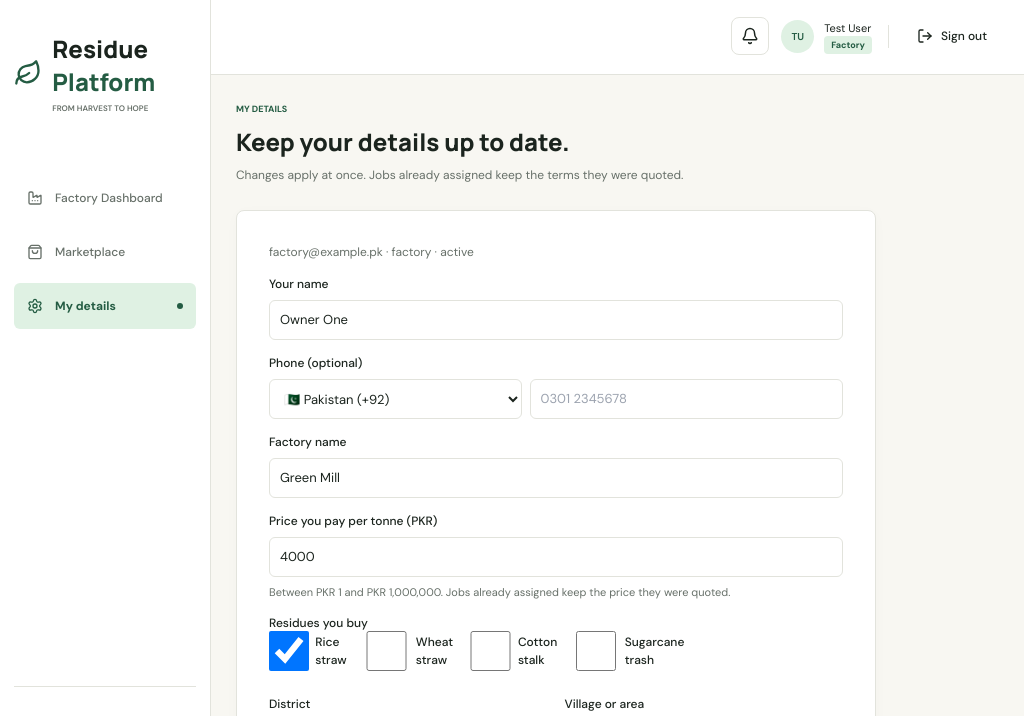
Test case: Settings: a factory edits its own details › a refusal from the API is shown on the field it names
This screenshot has width=1024, height=716.
Check: the field labelled "Factory name" is shown, box [269, 458, 843, 498]
Replace the text in the field labelled "Your name" with "Owner Two" at {"x": 556, "y": 320}, box [269, 300, 843, 340]
(page scrolled)
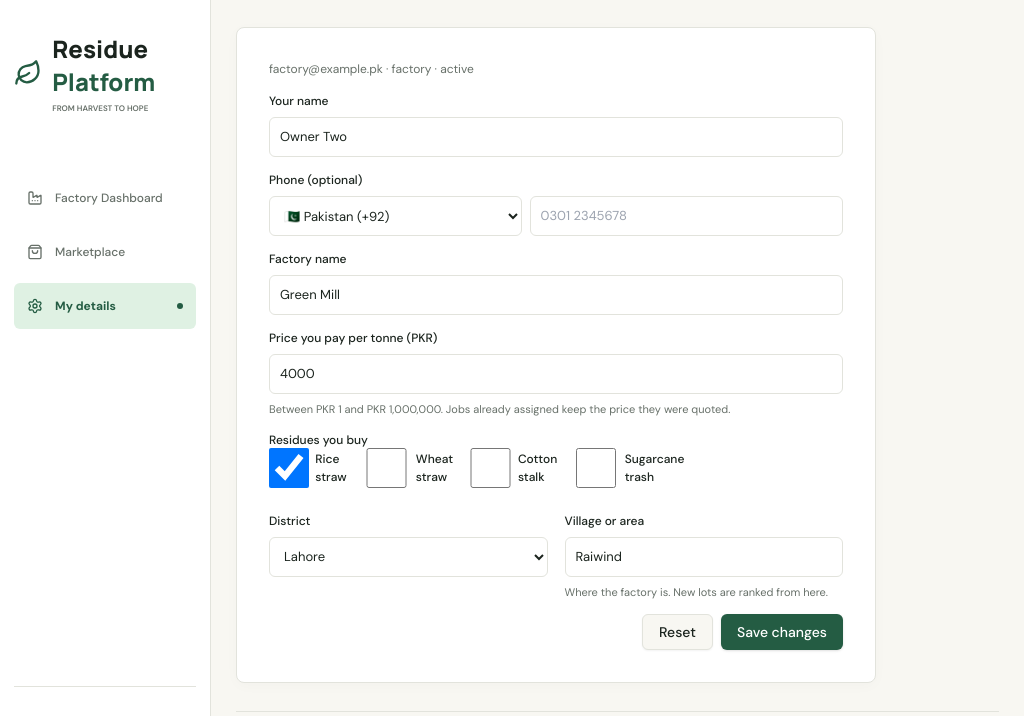
Click the button "Save changes" at {"x": 782, "y": 632}, box [721, 614, 843, 650]
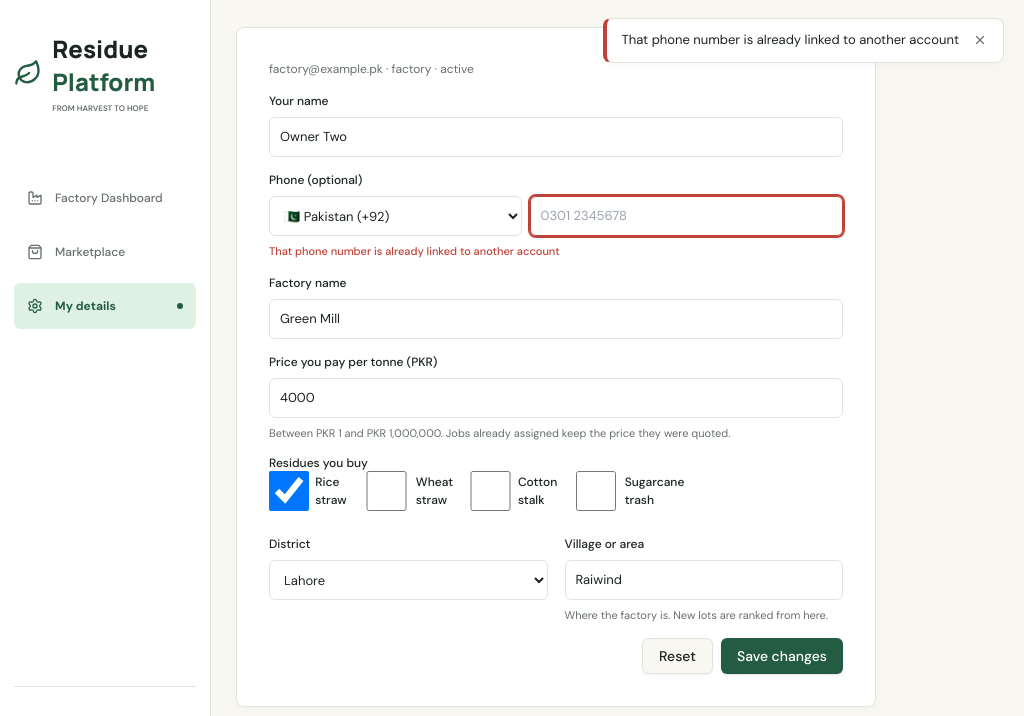
Check: the text "That phone number is already linked to another account" below "Phone (optional)" is shown, box [269, 244, 560, 258]
